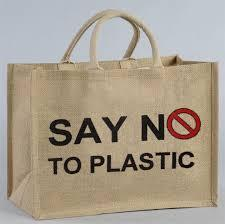Paper bag: (4, 3, 222, 224)
